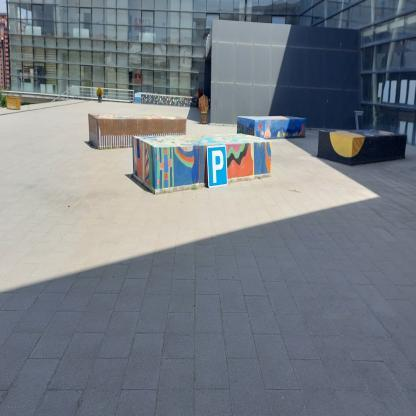parking: (206, 144, 228, 190)
